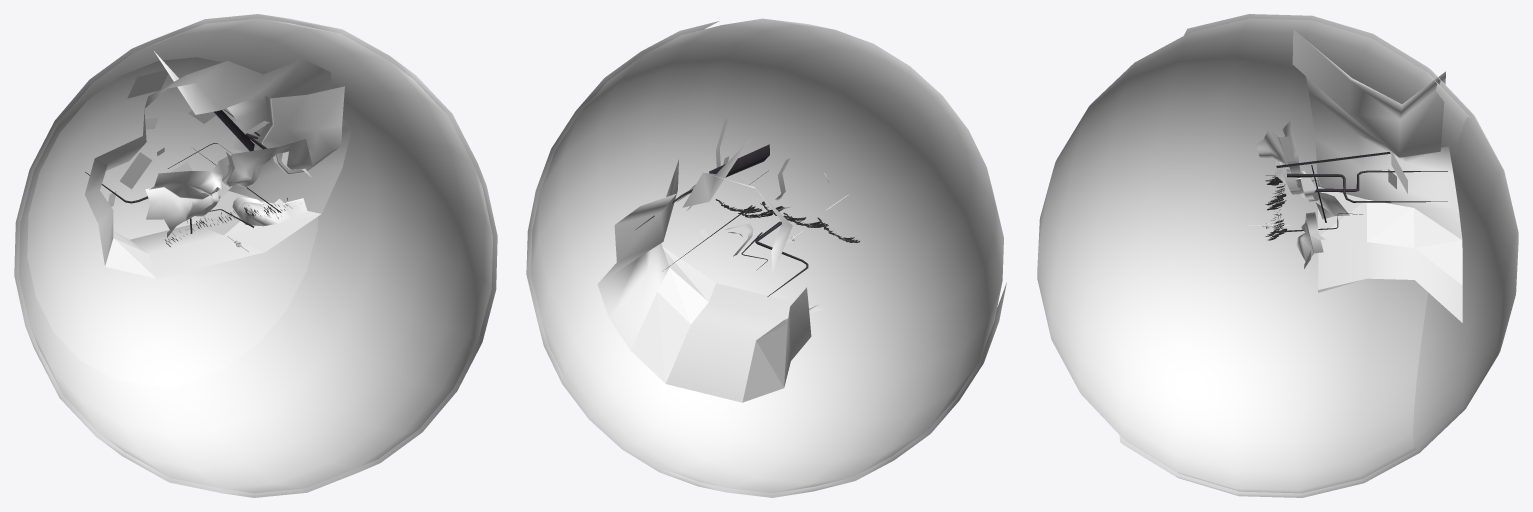
Rendered from compound_night.glb.
3 renders of one model, left to right at view 1: azimuth 30°, elevation 25°; view 2: azimuth 150°, elevation 25°; view 3: azimuth 270°, elevation 25°, orthographic.
Visible parts, largest first — view 1: rsrc.world.skybox.clockwork_tunnels.tier1.parts.mesh_bg_reco (×2), rsrc.world.skybox.clockwork_tunnels.tier1.parts.mesh_mainsky (×5); view 2: rsrc.world.skybox.clockwork_tunnels.tier1.parts.mesh_bg_reco (×2), rsrc.world.skybox.clockwork_tunnels.tier1.parts.mesh_mainsky (×3); view 3: rsrc.world.skybox.clockwork_tunnels.tier1.parts.mesh_bg_reco (×2), rsrc.world.skybox.clockwork_tunnels.tier1.parts.mesh_mainsky (×4).
Part boxes in pixels (<box>): rsrc.world.skybox.clockwork_tunnels.tier1.parts.mesh_bg_reco (×2): <box>14,14,497,497</box>; rsrc.world.skybox.clockwork_tunnels.tier1.parts.mesh_mainsky (×5): <box>85,51,351,278</box>; rsrc.world.skybox.clockwork_tunnels.tier1.parts.mesh_bg_reco (×2): <box>526,18,1006,497</box>; rsrc.world.skybox.clockwork_tunnels.tier1.parts.mesh_mainsky (×3): <box>597,118,849,402</box>; rsrc.world.skybox.clockwork_tunnels.tier1.parts.mesh_bg_reco (×2): <box>1037,14,1518,497</box>; rsrc.world.skybox.clockwork_tunnels.tier1.parts.mesh_mainsky (×4): <box>1256,29,1462,322</box>.
Bounding box in the file's own units: 105 × 102 × 101.
Materials: 9 (4 with a texture image).
